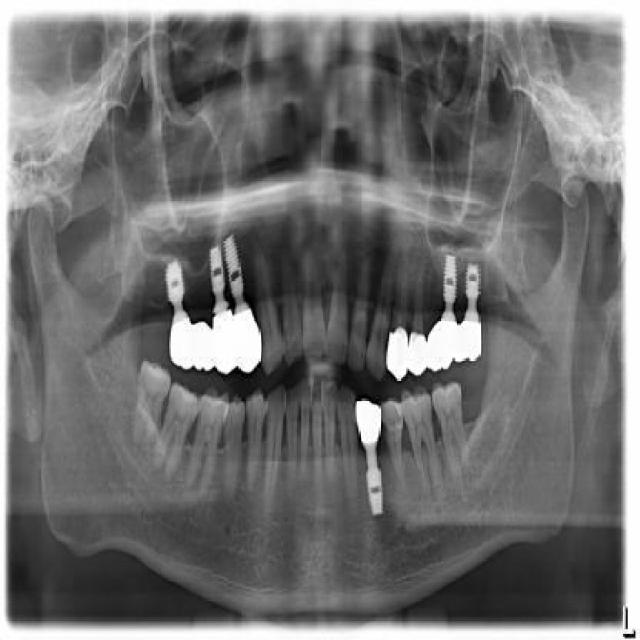implant: (225, 231, 265, 373), (352, 396, 388, 514), (160, 253, 197, 366), (207, 239, 238, 372), (457, 253, 486, 362), (434, 250, 459, 368)
kaplama: (389, 326, 411, 384), (407, 323, 429, 374)
kopru: (171, 309, 229, 370)
